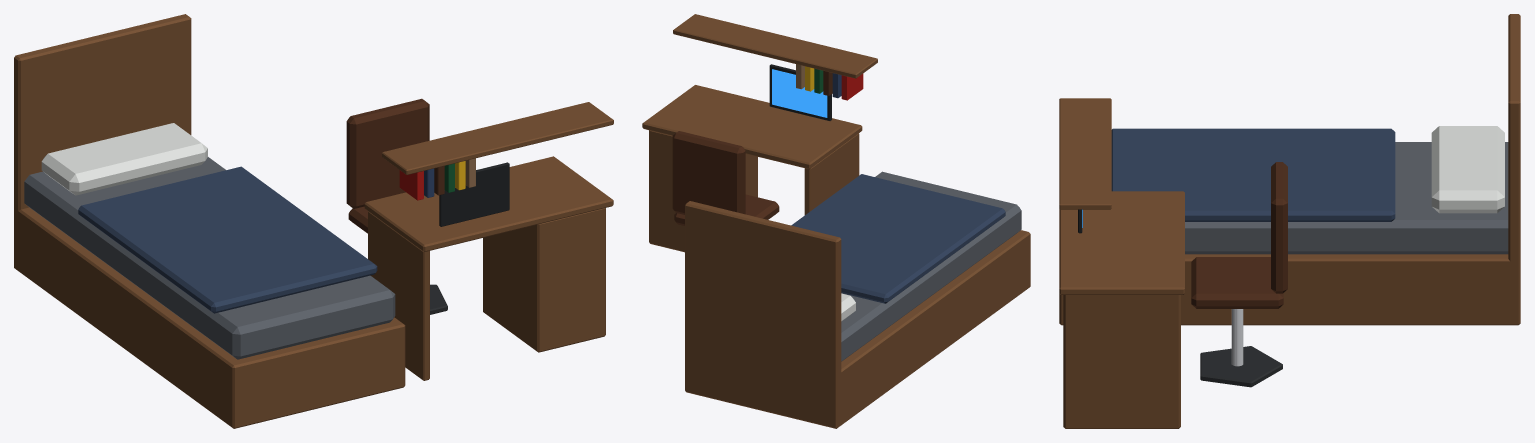
File: captains_cabin.glb
3 views of the same model, side by side, from view 1: azimuth 30°, elevation 25°; view 2: azimuth 150°, elevation 25°; view 3: azimuth 270°, elevation 25° (orthographic). The views are drawn at different scales.
Parts seen in each view (by area): view 1: captains_cabin; view 2: captains_cabin; view 3: captains_cabin.
Boxes of the visible parts, x1,y1,x2,y2 form: captains_cabin: (14, 14, 613, 428); captains_cabin: (642, 14, 1030, 428); captains_cabin: (1059, 14, 1520, 428).
Size of the model in its own units: 2.2 by 1.2 by 2.2.
